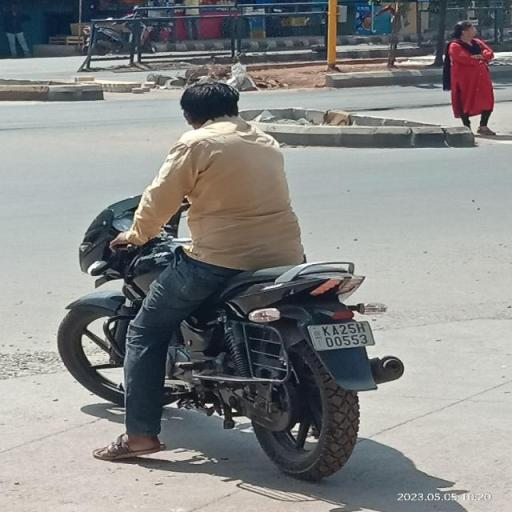bike: (52, 73, 410, 485)
numberplate: (310, 316, 380, 354)
withouthelmet: (182, 84, 241, 126)
